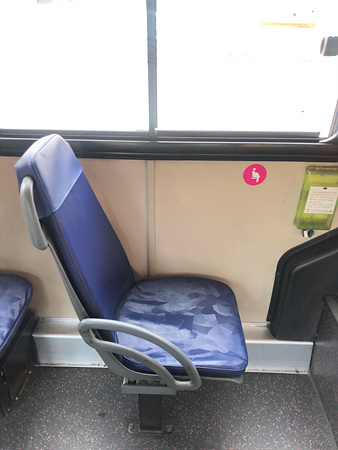seat: (17, 134, 250, 388)
